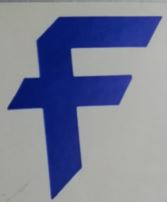Fisher: (8, 14, 163, 201)
